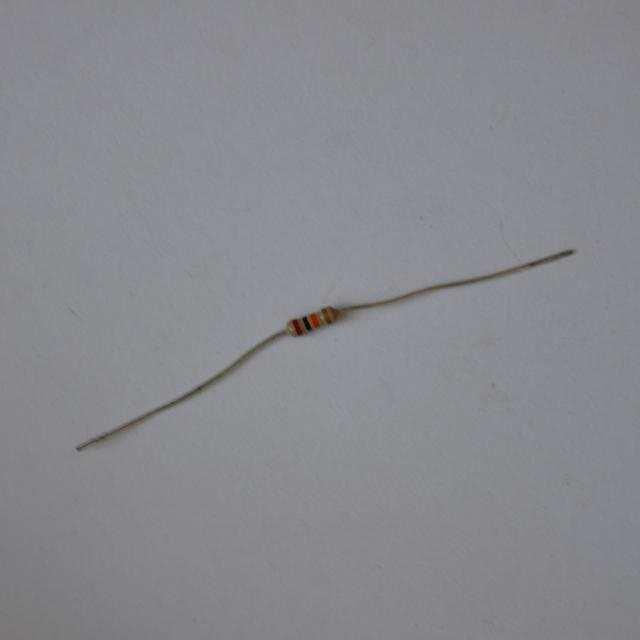black: (302, 317, 312, 331)
gold: (324, 307, 333, 324)
orange: (311, 315, 320, 327)
red: (292, 319, 301, 335)
resistor: (281, 299, 347, 346)
